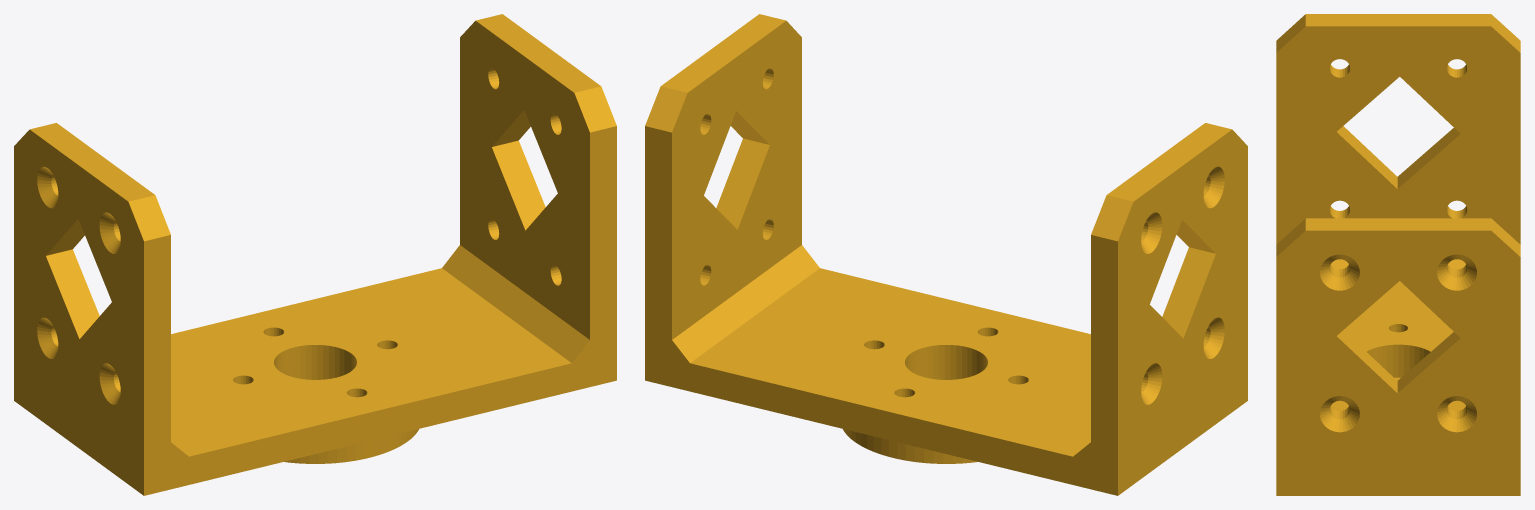
3 views of the same model, side by side, from view 1: azimuth 30°, elevation 25°; view 2: azimuth 150°, elevation 25°; view 3: azimuth 270°, elevation 25° (orthographic). The views are drawn at different scales.
Parts seen in each view (by area): view 1: node; view 2: node; view 3: node.
Part boxes in pixels (x1,y1,x2,y2): node: (14,14,616,495); node: (645,14,1247,495); node: (1276,14,1520,495).
Size of the model in its own units: 52.5 by 33 by 25.
